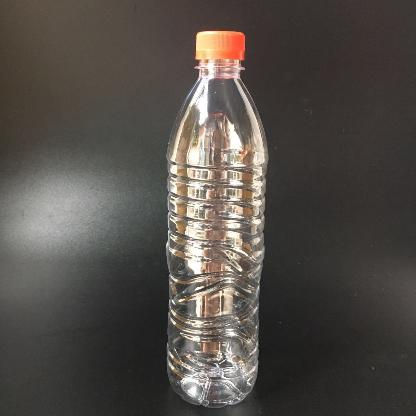Plastic Bottle: (165, 30, 269, 408)
